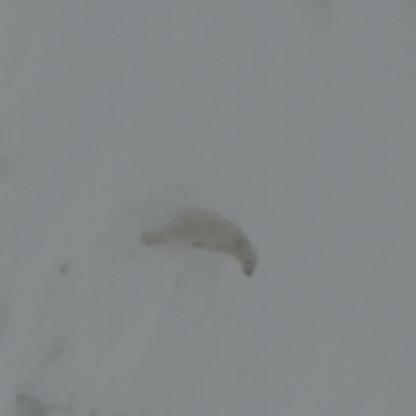polar-bear: (141, 207, 257, 277)
